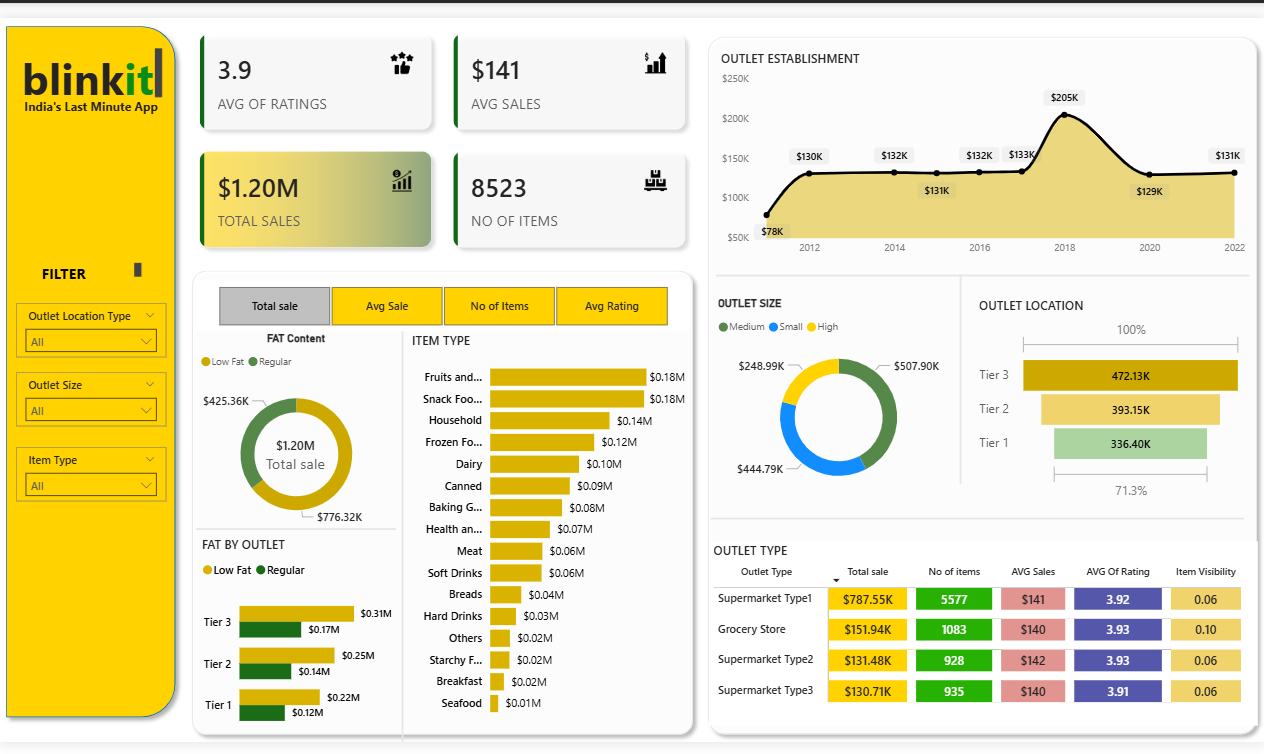

The dashboard page shown, as its layout file describes it:
{"tool":"powerbi","page":{"name":"Page 1","canvas":[1400,800],"ordinal":0},"visuals":[{"type":"shape","box":[0,0,205,781.2],"z":0},{"type":"textbox","box":[19.4,28.3,166.1,68.9],"z":1000},{"type":"textbox","box":[19.4,83.1,166.1,30],"z":2000},{"type":"cardVisual","fields":{"Data":["BlinkIT Grocery Data.average_of_rating","BlinkIT Grocery Data.average","BlinkIT Grocery Data.Total sale","BlinkIT Grocery Data.count_of_rows"]},"box":[205,0,570.9,270.4],"z":3000},{"type":"shape","box":[205,270.4,570.9,530.2],"z":4000},{"type":"donutChart","title":"FAT Content","fields":{"Y":["BlinkIT Grocery Data.Total sale"],"Category":["BlinkIT Grocery Data.Item Fat Content"]},"box":[219.2,346.4,220.9,229.8],"z":5000},{"type":"slicer","fields":{"Values":["Metrics.Metrics"]},"box":[219.2,289.8,544.3,56.6],"z":6000},{"type":"cardVisual","fields":{"Data":["BlinkIT Grocery Data.Total sale"]},"box":[275.7,445.4,107.8,60.1],"z":7000},{"type":"clusteredBarChart","title":"FAT BY OUTLET","fields":{"Y":["BlinkIT Grocery Data.Total sale"],"Category":["BlinkIT Grocery Data.Outlet Location Type"],"Series":["BlinkIT Grocery Data.Item Fat Content"]},"box":[220.9,570.9,219.2,229.8],"z":8000},{"type":"shape","box":[219.2,558.5,220.9,12.4],"z":9000},{"type":"shape","box":[440.1,346.4,12.4,454.2],"z":10000},{"type":"barChart","title":"ITEM TYPE","fields":{"Y":["BlinkIT Grocery Data.Total sale"],"Category":["BlinkIT Grocery Data.Item Type"]},"box":[452.4,346.4,311.1,434.8],"z":11000},{"type":"shape","box":[775.9,12.4,623.9,788.2],"z":12000},{"type":"lineChart","title":"OUTLET ESTABLISHMENT","fields":{"Category":["BlinkIT Grocery Data.Outlet Establishment Year"],"Y":["BlinkIT Grocery Data.Total sale"]},"box":[793.5,35.3,588.5,235.1],"z":13000},{"type":"shape","box":[793.5,277.5,588.5,12.4],"z":14000},{"type":"donutChart","title":"OUTLET SIZE","fields":{"Category":["BlinkIT Grocery Data.Outlet Size"],"Y":["BlinkIT Grocery Data.Total sale"]},"box":[790,308.7,275.7,224.5],"z":15000},{"type":"shape","box":[1056.9,282.8,12.4,231.5],"z":16000},{"type":"funnel","title":"OUTLET LOCATION","fields":{"Y":["Sum(BlinkIT Grocery Data.Sales)"],"Category":["BlinkIT Grocery Data.Outlet Location Type"]},"box":[1078.1,308.7,300.4,229.8],"z":17000},{"type":"shape","box":[786.5,546.1,588.5,12.4],"z":18000},{"type":"pivotTable","title":"OUTLET TYPE","fields":{"Rows":["BlinkIT Grocery Data.Outlet Type"],"Values":["BlinkIT Grocery Data.Total sale","BlinkIT Grocery Data.No of items","BlinkIT Grocery Data.average","BlinkIT Grocery Data.average_of_rating","Avg(BlinkIT Grocery Data.Item Visibility)"]},"box":[784.7,577.9,606.2,203.2],"z":19000},{"type":"slicer","fields":{"Values":["BlinkIT Grocery Data.Outlet Location Type"]},"box":[19.4,314.6,166.1,60.1],"z":19001},{"type":"slicer","fields":{"Values":["BlinkIT Grocery Data.Outlet Size"]},"box":[19.4,390.6,166.1,60.1],"z":19002},{"type":"slicer","fields":{"Values":["BlinkIT Grocery Data.Item Type"]},"box":[19.4,473.6,166.1,60.1],"z":19003},{"type":"textbox","box":[42.4,265.1,120.2,35.3],"z":19004}]}

Visuals, with their boxes on the page's 1400x800 design canvas (x1, y1, x2, y2). These are canvas units, not pixel positions in the 1264x754 screenshot, which may show the page scaled, cropped or inside an application window:
shape: bbox=(0, 0, 205, 781)
textbox: bbox=(19, 28, 186, 97)
textbox: bbox=(19, 83, 186, 113)
cardVisual - BlinkIT Grocery Data.average_of_rating x BlinkIT Grocery Data.average: bbox=(205, 0, 776, 270)
shape: bbox=(205, 270, 776, 801)
"FAT Content" donutChart: bbox=(219, 346, 440, 576)
slicer - Metrics.Metrics: bbox=(219, 290, 764, 346)
cardVisual - BlinkIT Grocery Data.Total sale: bbox=(276, 445, 384, 506)
"FAT BY OUTLET" clusteredBarChart: bbox=(221, 571, 440, 801)
shape: bbox=(219, 558, 440, 571)
shape: bbox=(440, 346, 452, 801)
"ITEM TYPE" barChart: bbox=(452, 346, 764, 781)
shape: bbox=(776, 12, 1400, 801)
"OUTLET ESTABLISHMENT" lineChart: bbox=(794, 35, 1382, 270)
shape: bbox=(794, 278, 1382, 290)
"OUTLET SIZE" donutChart: bbox=(790, 309, 1066, 533)
shape: bbox=(1057, 283, 1069, 514)
"OUTLET LOCATION" funnel: bbox=(1078, 309, 1378, 538)
shape: bbox=(786, 546, 1375, 558)
"OUTLET TYPE" pivotTable: bbox=(785, 578, 1391, 781)
slicer - BlinkIT Grocery Data.Outlet Location Type: bbox=(19, 315, 186, 375)
slicer - BlinkIT Grocery Data.Outlet Size: bbox=(19, 391, 186, 451)
slicer - BlinkIT Grocery Data.Item Type: bbox=(19, 474, 186, 534)
textbox: bbox=(42, 265, 163, 300)
